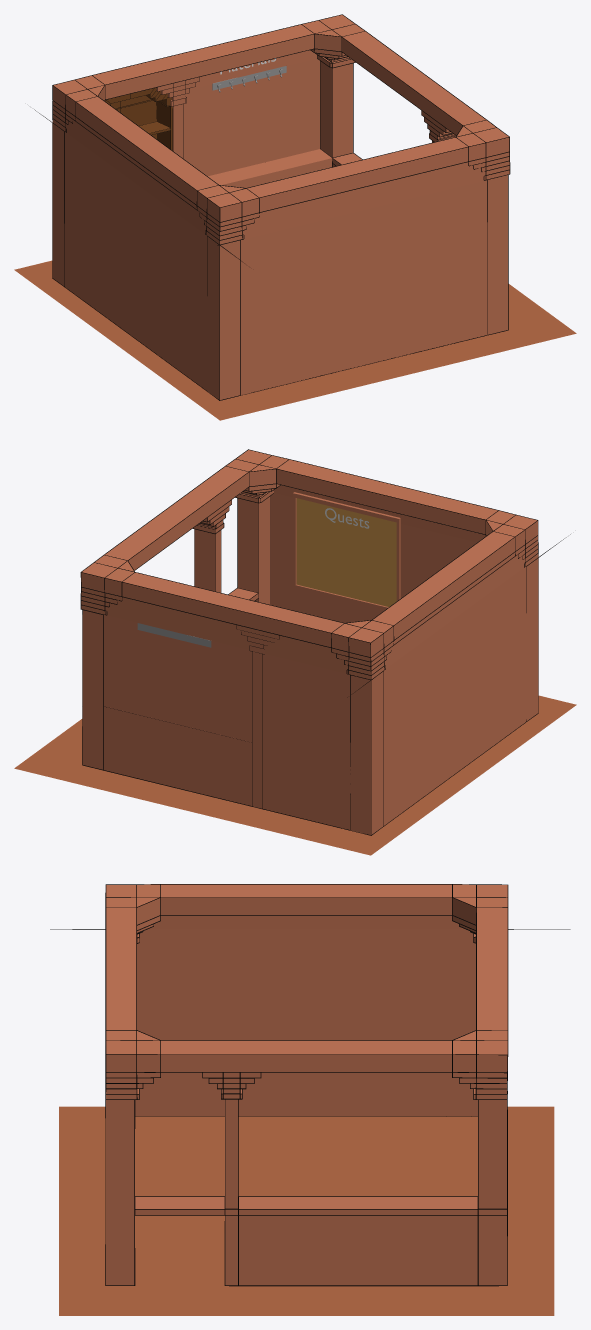
The model's file is Room1.2.fbx.
3 views of the same model, one above another, from view 1: azimuth 30°, elevation 25°; view 2: azimuth 150°, elevation 25°; view 3: azimuth 270°, elevation 25° (orthographic). The views are drawn at different scales.
Visible parts, largest first — view 1: YGC_new, Floor, YGC_wire, YGC_matdesk, Shelf_wbox, Shelf_pillar; view 2: YGC_new, Floor, Board, YGC_wire, Shelf_pillar, Hook_connecter; view 3: YGC_new, Floor, YGC_wire.
Boxes of the visible parts, x1,y1,x2,y2 form: YGC_new: (52,15,509,399); Floor: (14,260,576,420); YGC_wire: (34,14,510,400); YGC_matdesk: (208,149,332,187); Shelf_wbox: (105,87,172,150); Shelf_pillar: (156,77,199,157); YGC_new: (81,450,538,834); Floor: (14,695,576,855); Board: (293,492,400,610); YGC_wire: (80,449,570,835); Shelf_pillar: (247,637,267,808); Hook_connecter: (137,623,211,647); YGC_new: (106,884,507,1285); Floor: (59,1106,554,1315); YGC_wire: (50,884,570,1286).
Bounding box in the file's own units: 2275 × 1185 × 2586.
